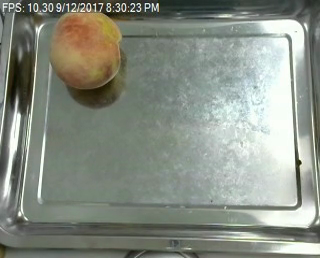Peach: (48, 7, 122, 90)
